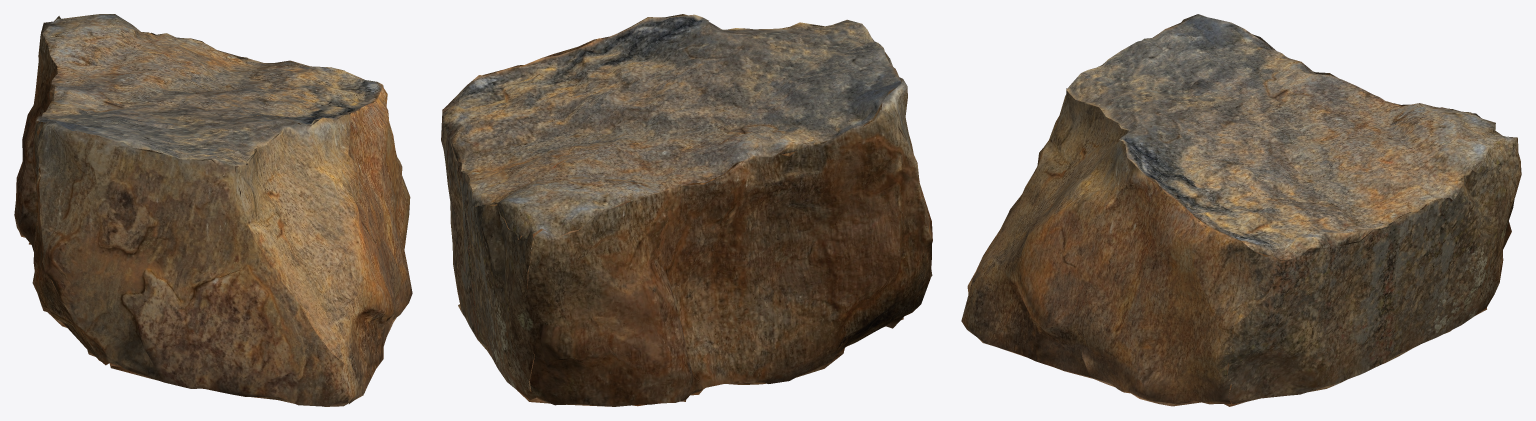
The picture shows the model from 3 angles, left to right: view 1: azimuth 30°, elevation 25°; view 2: azimuth 150°, elevation 25°; view 3: azimuth 270°, elevation 25°; orthographic projection. The views are drawn at different scales.
Parts seen in each view (by area): view 1: lod0; view 2: lod0; view 3: lod0.
Part boxes in pixels (x1,y1,x2,y2): lod0: (14, 14, 412, 406); lod0: (441, 14, 932, 406); lod0: (961, 14, 1521, 406).
Size of what is drawn, in the model's own units: 2.4 by 1.48 by 3.09.
1 material, 1 textured.
